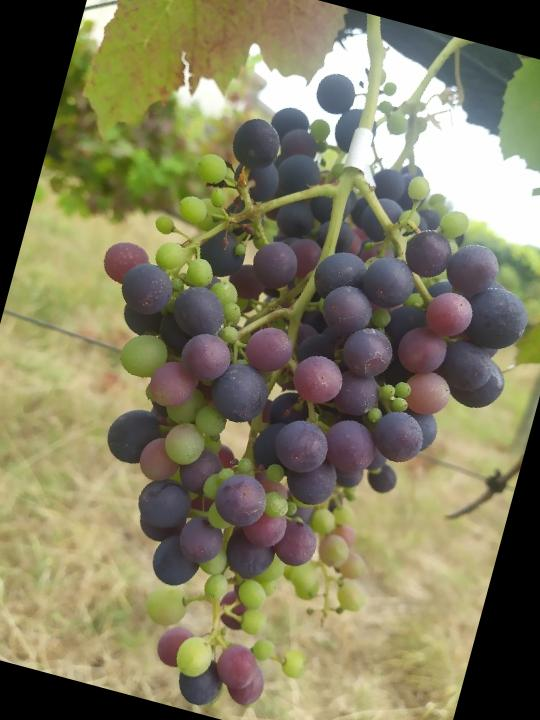grape: (0, 24, 540, 720)
